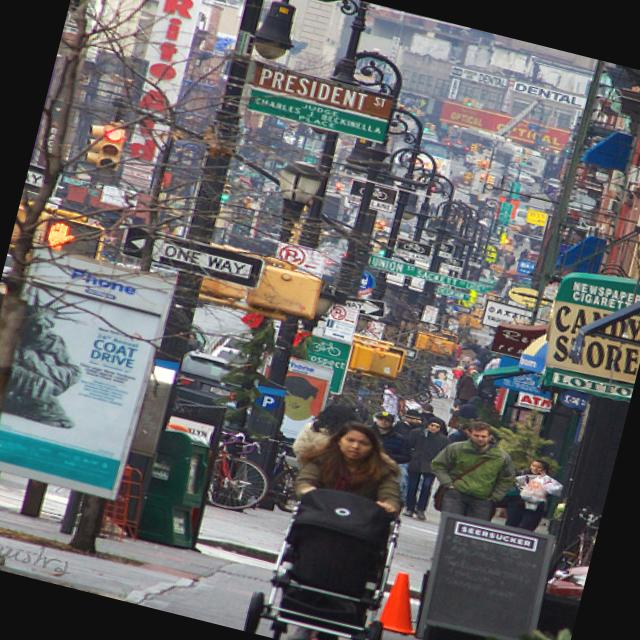Vehicle: (176, 346, 233, 384), (210, 344, 248, 366)
